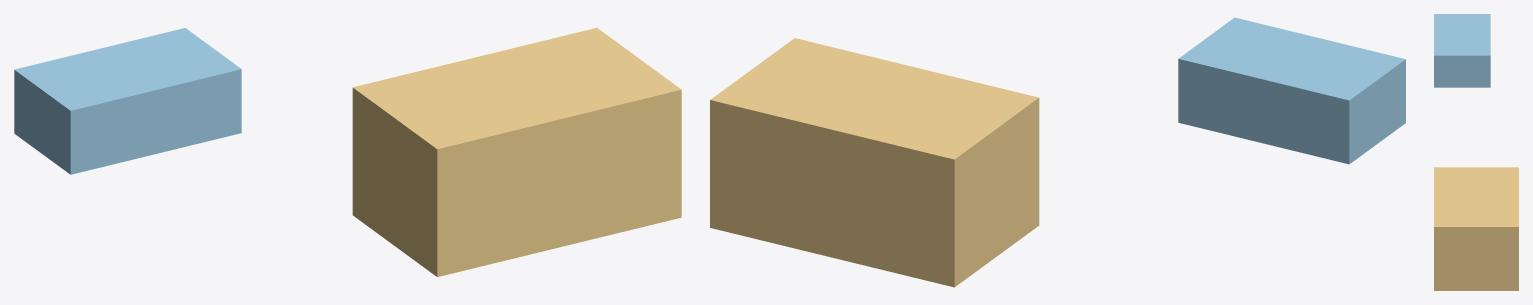
The model's file is ifc.glb.
The picture shows the model from 3 angles, left to right: view 1: azimuth 30°, elevation 25°; view 2: azimuth 150°, elevation 25°; view 3: azimuth 270°, elevation 25°; orthographic projection. The views are drawn at different scales.
Parts seen in each view (by area): view 1: Buffer Tank, Primary Pump; view 2: Buffer Tank, Primary Pump; view 3: Buffer Tank, Primary Pump.
Part boxes in pixels (box(x1,y1,x2,y2)): Buffer Tank: box(352, 28, 681, 276); Primary Pump: box(14, 28, 241, 174); Buffer Tank: box(710, 38, 1039, 287); Primary Pump: box(1178, 17, 1405, 164); Buffer Tank: box(1434, 167, 1518, 290); Primary Pump: box(1434, 14, 1490, 87).
Bounding box in the file's own units: 5 × 2 × 1.2.
